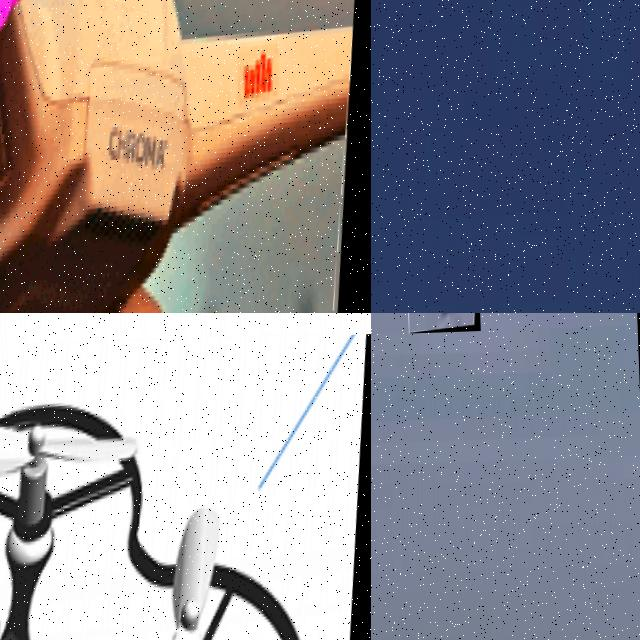0: (406, 313, 480, 333)
drone: (0, 0, 371, 313), (0, 334, 371, 640)
